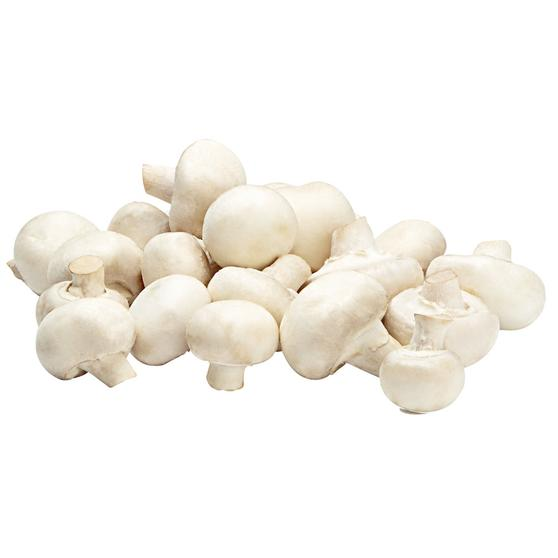champignon: (138, 133, 256, 239), (289, 272, 393, 387), (444, 230, 557, 333), (39, 290, 144, 394), (183, 296, 280, 399), (390, 271, 502, 360), (198, 178, 300, 269), (381, 344, 472, 418)
